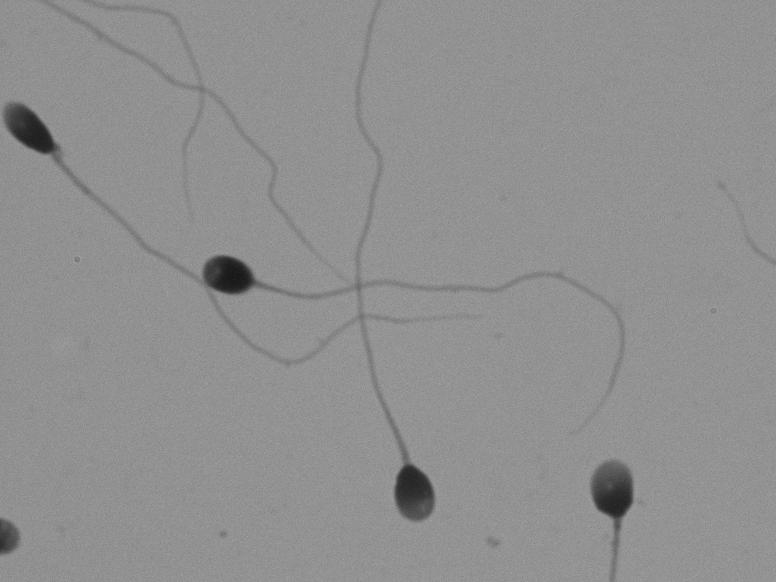Abnormal: (2, 39, 160, 307), (541, 443, 689, 568)
Normal: (186, 191, 655, 431), (324, 18, 464, 536)
